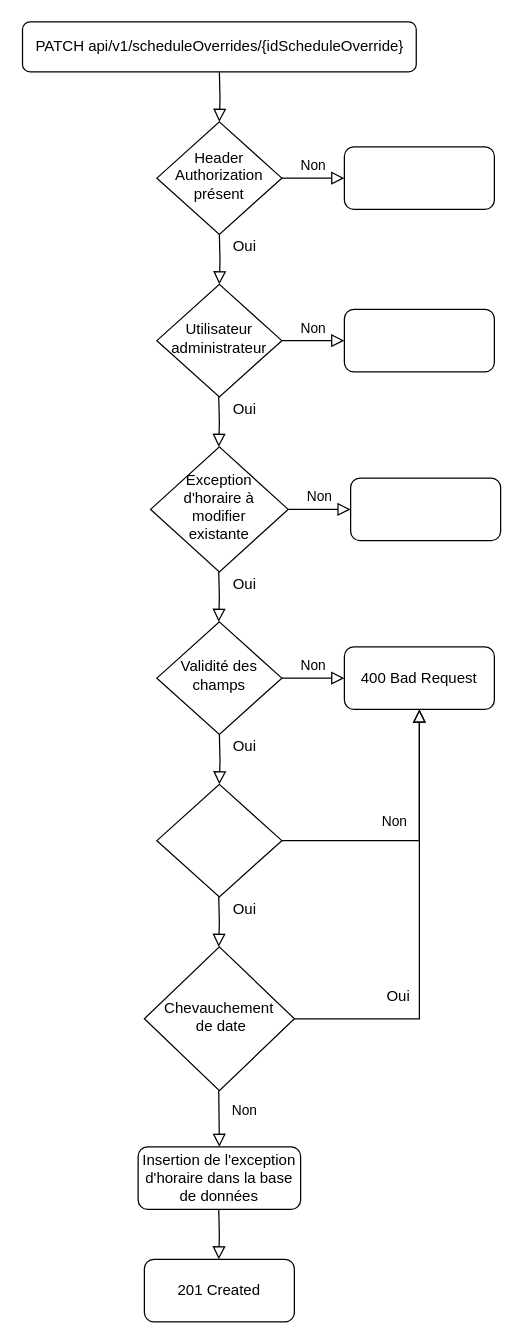
The diagram is 523 pixels wide and 1344 high, and some of its shapes have lost their labels. Each missing label, with the box of its shape:
401 Unauthorized: (343, 146, 494, 209)
403 Forbidden: (343, 308, 494, 372)
404 Not Found: (349, 477, 501, 541)
Validité du format de date: (156, 783, 282, 897)
